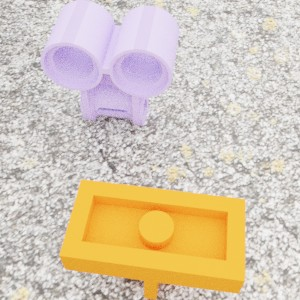lego: (59, 179, 245, 300), (40, 0, 179, 125)
